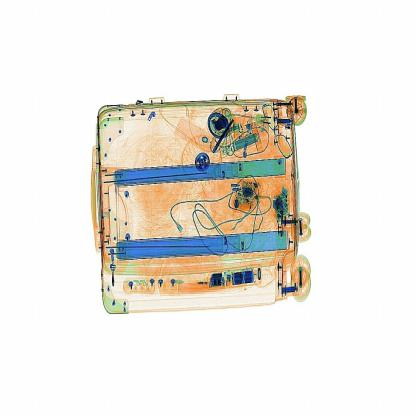knife: (210, 104, 238, 158)
